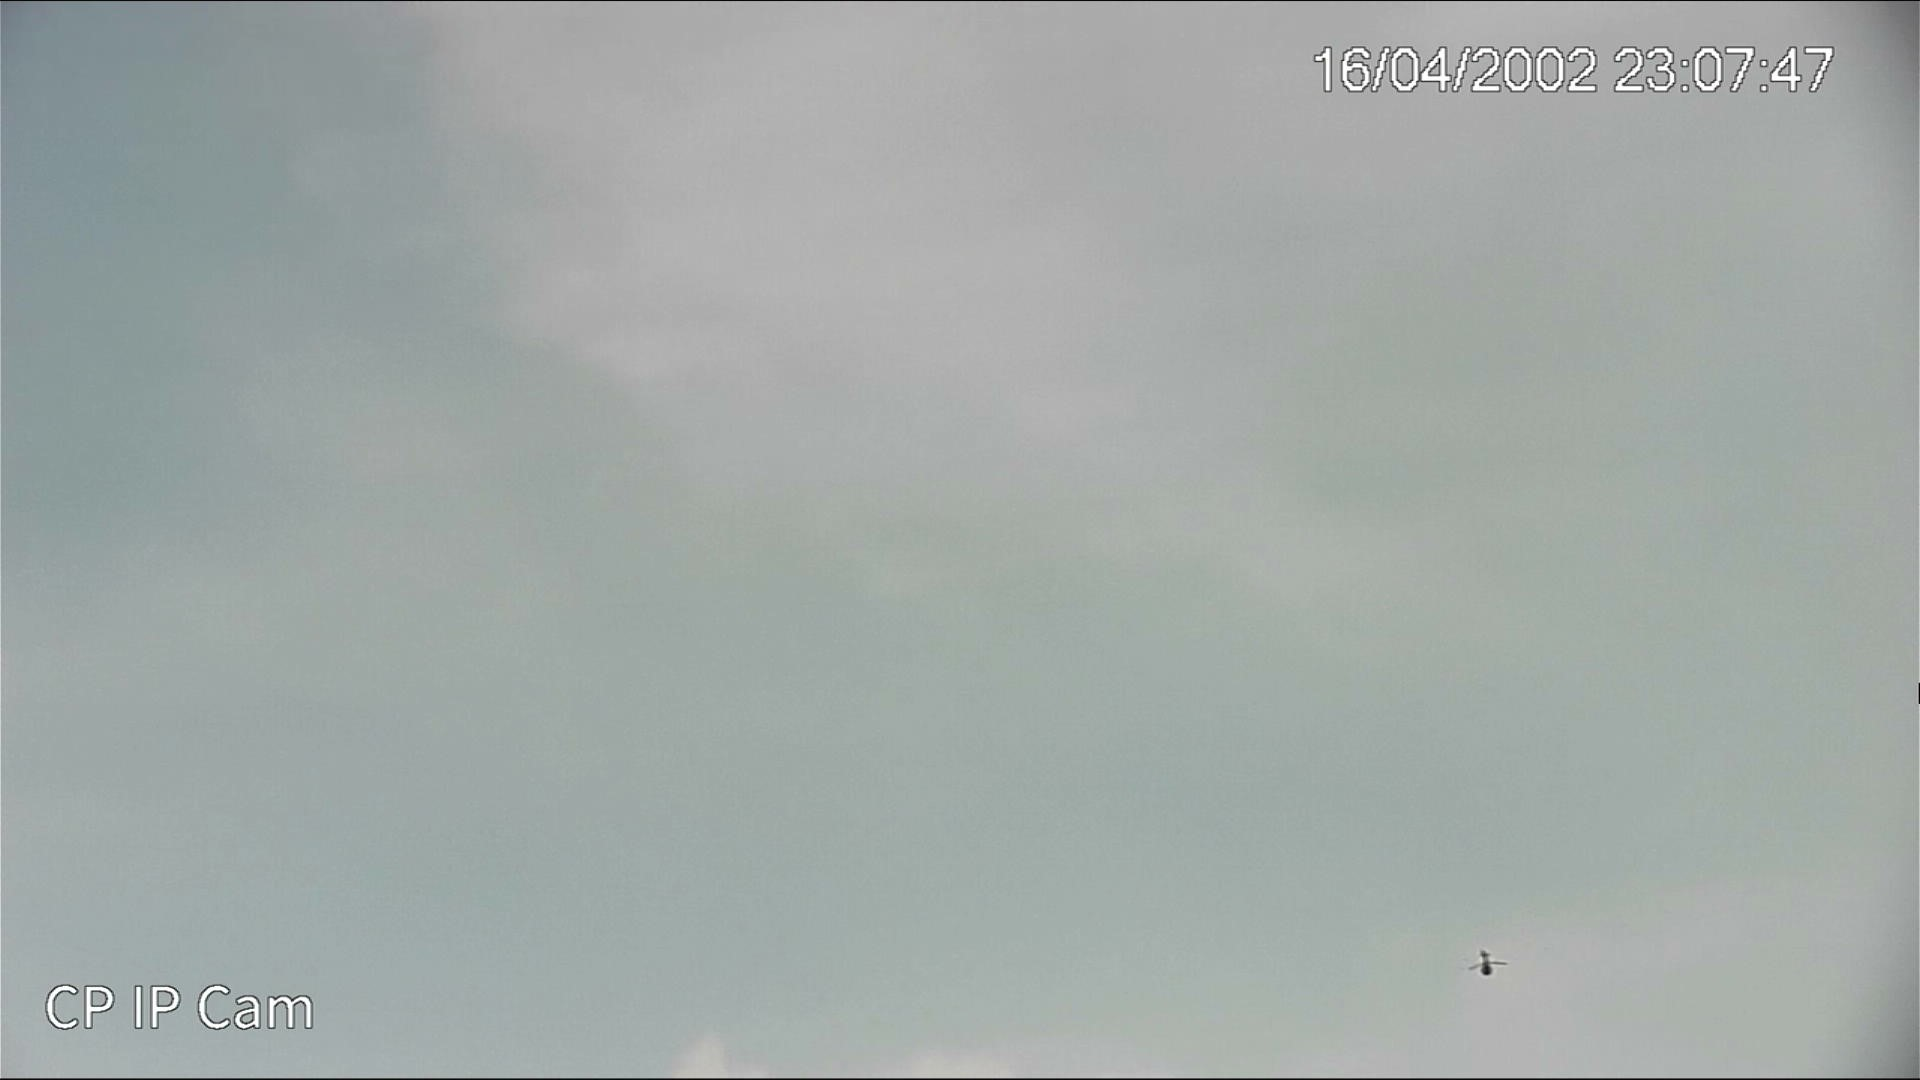SU_30: (1468, 949, 1509, 976)
